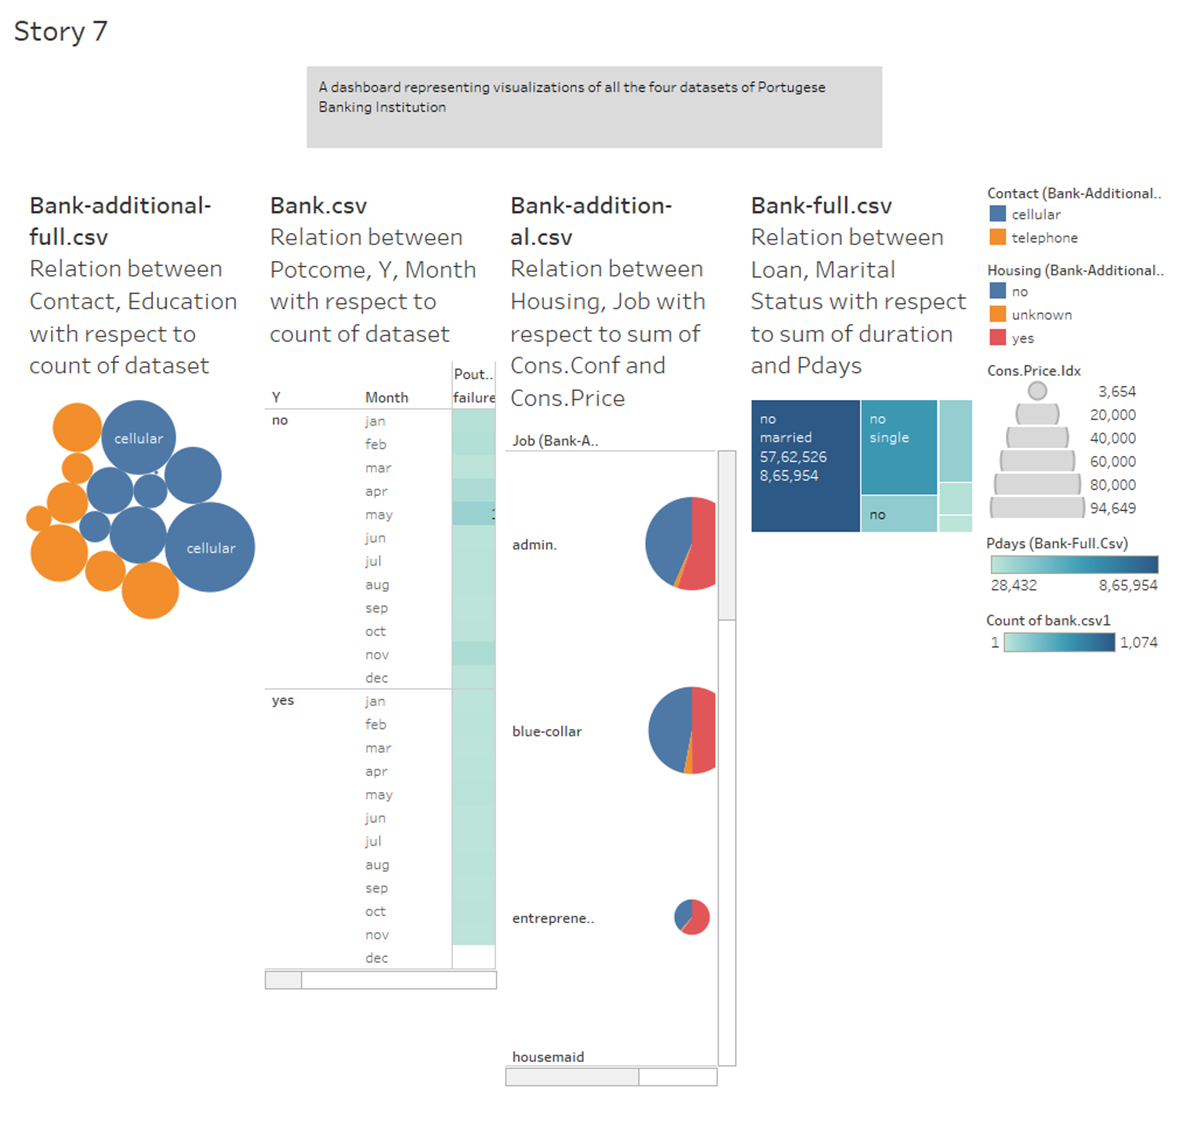

The dashboard page shown, as its layout file describes it:
{"tool":"tableau","page":{"name":"Dashboard 3","canvas":[1000,800],"ordinal":2},"visuals":[{"type":"worksheet","title":"Sheet 1","mark":"Circle","box":[8,8,206,784]},{"type":"worksheet","title":"Sheet 4","mark":"Square","rows":["y","month"],"cols":["poutcome"],"box":[214,8,206,784]},{"type":"worksheet","title":"Sheet 2","mark":"Pie","rows":["job (bank-additional.csv)"],"box":[420,8,206,784]},{"type":"worksheet","title":"Sheet 3","mark":"Automatic","box":[626,8,206,784]},{"type":"legend","title":"Sheet 1","param":"[federated.1iuugzy0r8b52j1bh1jbb0fz77mk].[none:contact (bank-additional-full.csv","box":[832,8,160,72]},{"type":"legend","title":"Sheet 2","param":"[federated.1iuugzy0r8b52j1bh1jbb0fz77mk].[none:housing (bank-additional.csv):nk]","box":[832,80,160,93]},{"type":"legend","title":"Sheet 2","param":"[federated.1iuugzy0r8b52j1bh1jbb0fz77mk].[sum:cons.price.idx:qk]","box":[832,173,160,156]},{"type":"legend","title":"Sheet 3","param":"[federated.1iuugzy0r8b52j1bh1jbb0fz77mk].[sum:pdays (bank-full.csv):qk]","box":[832,329,160,73]},{"type":"legend","title":"Sheet 4","param":"[federated.1iuugzy0r8b52j1bh1jbb0fz77mk].[__tableau_internal_object_id__].[cnt:b","box":[832,402,160,73]}]}

Visuals, with their boxes on the page's 1000x800 design canvas (x1, y1, x2, y2). These are canvas units, not pixel positions in the 1188x1127 screenshot, which may show the page scaled, cropped or inside an application window:
"Sheet 1" worksheet (Circle marks): (left=8, top=8, right=214, bottom=792)
"Sheet 4" worksheet (Square marks): (left=214, top=8, right=420, bottom=792)
"Sheet 2" worksheet (Pie marks): (left=420, top=8, right=626, bottom=792)
"Sheet 3" worksheet: (left=626, top=8, right=832, bottom=792)
"Sheet 1" legend: (left=832, top=8, right=992, bottom=80)
"Sheet 2" legend: (left=832, top=80, right=992, bottom=173)
"Sheet 2" legend: (left=832, top=173, right=992, bottom=329)
"Sheet 3" legend: (left=832, top=329, right=992, bottom=402)
"Sheet 4" legend: (left=832, top=402, right=992, bottom=475)
